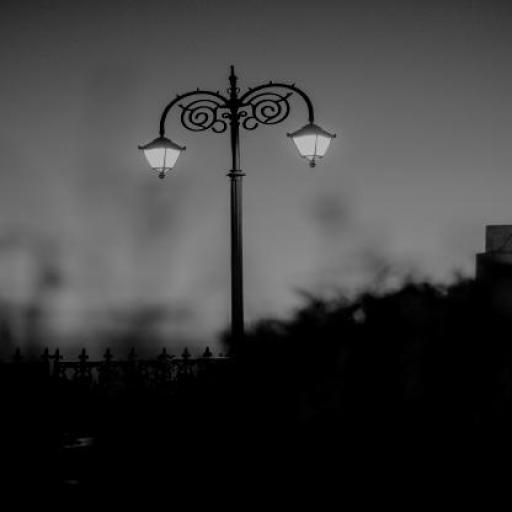street light: (143, 68, 338, 352)
